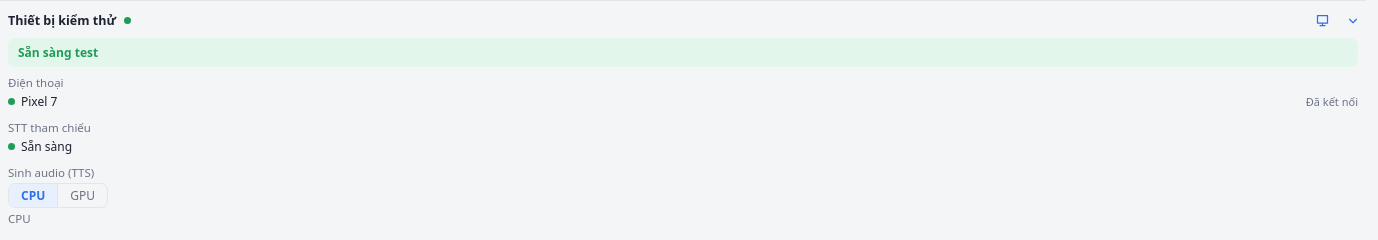
Test: TestbenchPanel › collapses
Expected: the button "CPU" is shown, [9, 184, 57, 207]
Step 1. Click the button named "Thu gọn" → [1353, 20], box [1342, 10, 1364, 32]
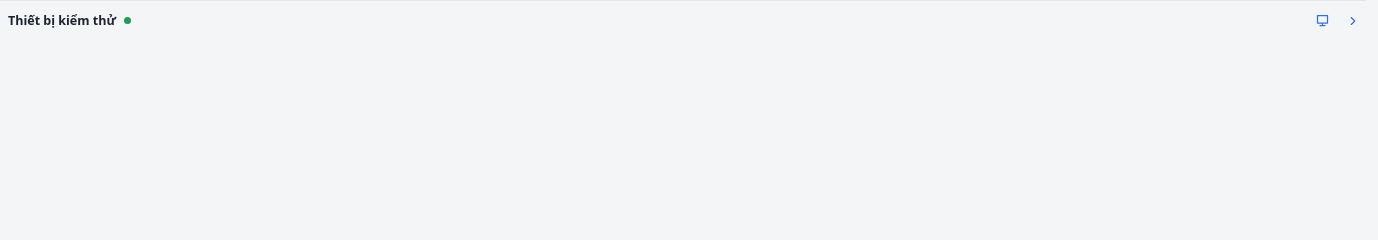
Now the text "Pixel 7" is gone
Now the button named "Mở rộng" is shown, box [1342, 10, 1364, 32]
